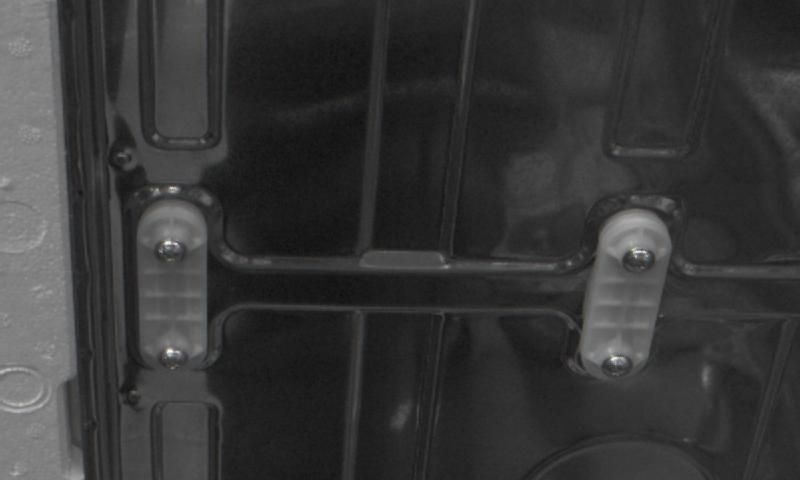vida-ok: (616, 241, 660, 281), (153, 229, 192, 269), (598, 347, 637, 387), (152, 343, 190, 378)
